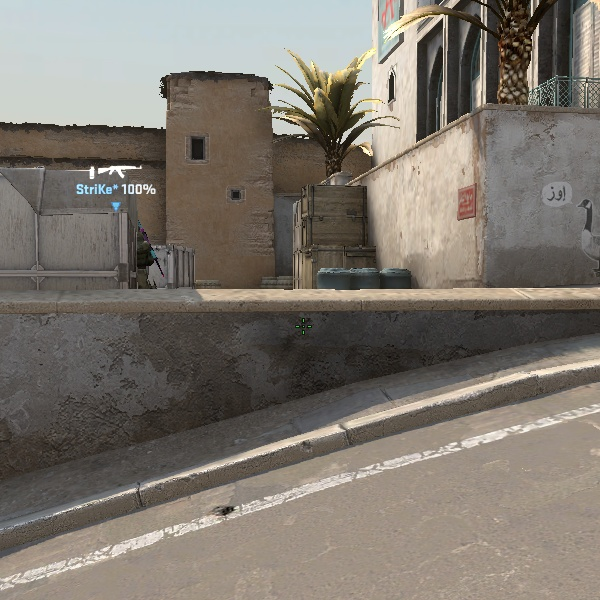ct_body: (136, 225, 160, 287)
